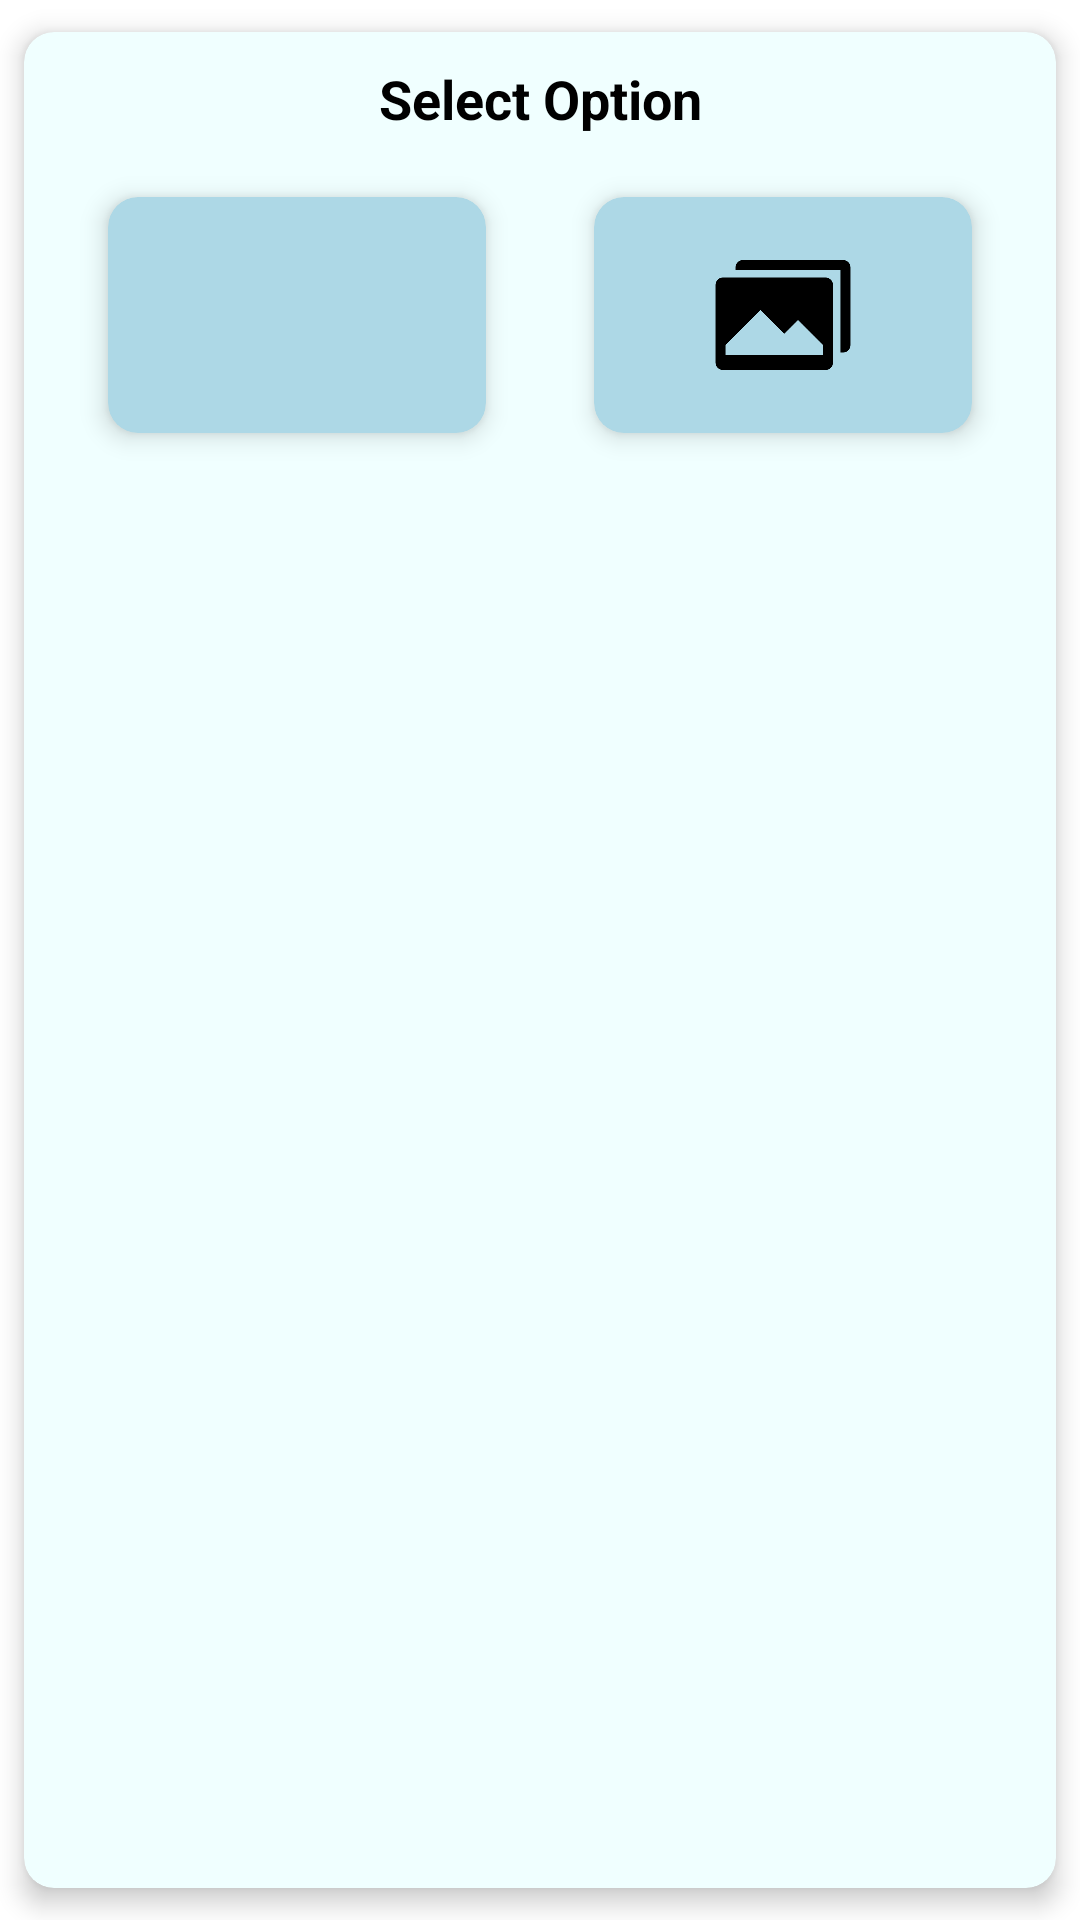

Icon click points for this 1080*1920 phone screenshot, format (x,y):
gallery: (783,315)
